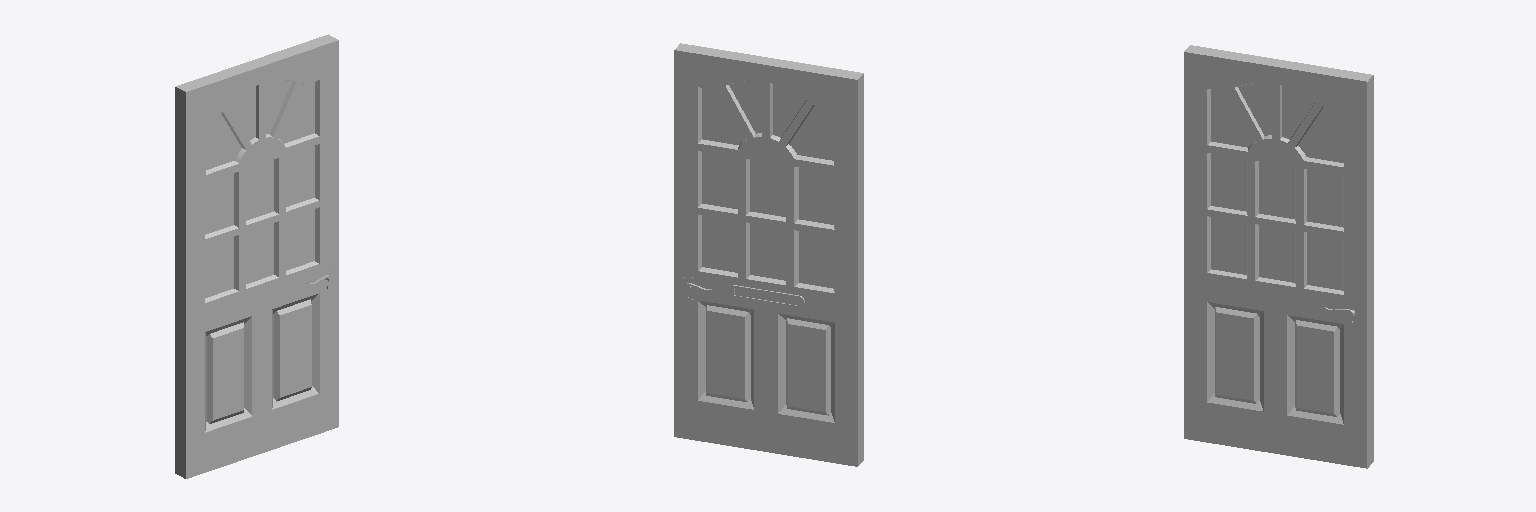
File: door2_000005.obj
The picture shows the model from 3 angles: view 1: azimuth 30°, elevation 25°; view 2: azimuth 150°, elevation 25°; view 3: azimuth 330°, elevation 25°; orthographic projection.
Parts seen in each view (by area): view 1: Door.000_Door.004; view 2: Door.000_Door.004; view 3: Door.000_Door.004.
Part boxes in pixels (left/top/right/bottom): Door.000_Door.004: left=175, top=34, right=338, bottom=478; Door.000_Door.004: left=674, top=43, right=863, bottom=466; Door.000_Door.004: left=1184, top=45, right=1373, bottom=468.
Size of the model in its own units: 0.7406 by 1.6 by 0.1966.